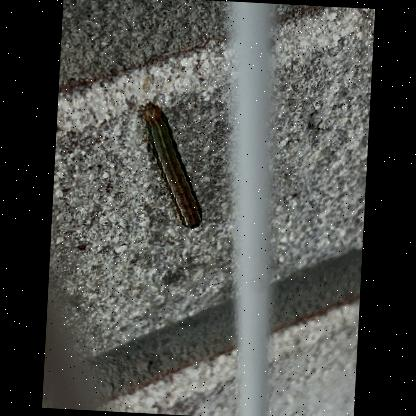Fall Armyworm Larvae: (127, 98, 212, 234)
